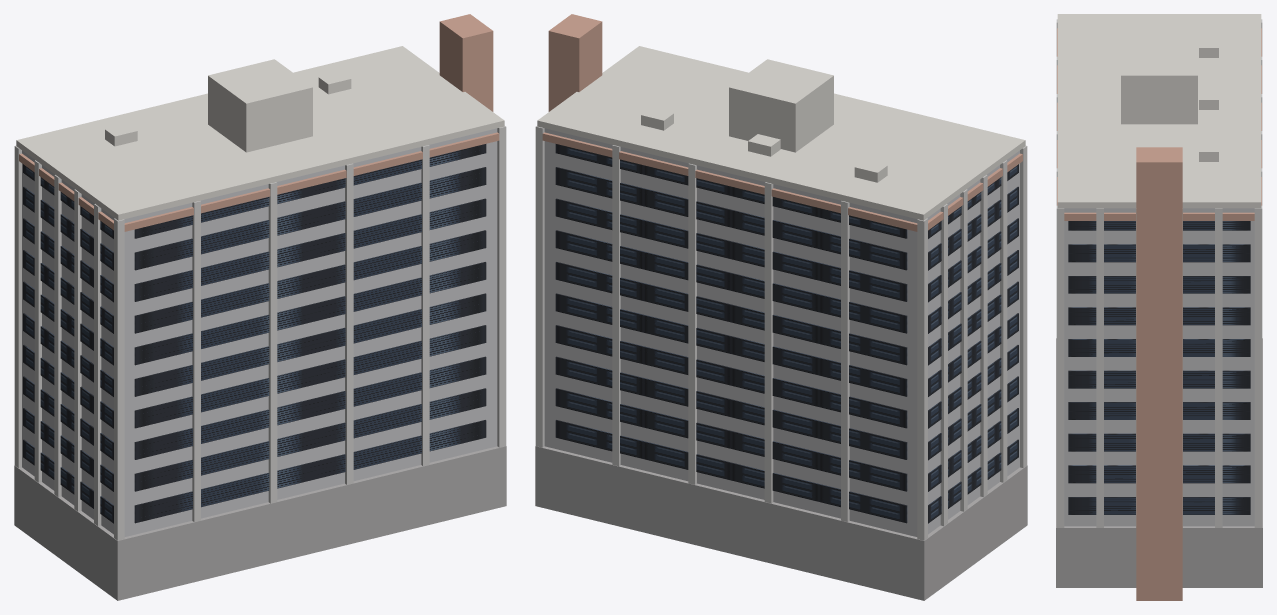
The model's file is skyline-tower-slab-tank.glb.
3 renders of one model, left to right at view 1: azimuth 30°, elevation 25°; view 2: azimuth 150°, elevation 25°; view 3: azimuth 270°, elevation 25°, orthographic.
Visible parts, largest first — view 1: windows, body-1, parapet, podium, pilasters, roof-detail, core, crown-band; view 2: windows, body-1, parapet, podium, pilasters, roof-detail, core, crown-band; view 3: parapet, windows, core, body-1, pilasters, podium, roof-detail, crown-band.
Boxes of the visible parts, x1,y1,x2,y2 form: windows: [23, 144, 486, 523]; body-1: [22, 128, 497, 536]; parapet: [16, 46, 504, 220]; podium: [14, 446, 506, 600]; pilasters: [14, 126, 506, 540]; roof-detail: [105, 59, 351, 152]; core: [439, 14, 493, 111]; crown-band: [19, 132, 499, 231]; windows: [555, 144, 1018, 523]; body-1: [544, 128, 1019, 536]; parapet: [537, 46, 1025, 220]; podium: [535, 446, 1027, 600]; pilasters: [535, 126, 1027, 540]; roof-detail: [641, 59, 887, 182]; core: [548, 14, 602, 111]; crown-band: [542, 132, 1022, 231]; parapet: [1057, 14, 1261, 208]; windows: [1068, 221, 1250, 514]; core: [1136, 147, 1182, 600]; body-1: [1064, 208, 1254, 526]; pilasters: [1056, 19, 1262, 527]; podium: [1056, 338, 1262, 587]; roof-detail: [1121, 36, 1218, 161]; crown-band: [1057, 28, 1261, 220].
Size of the model in its own units: 43.6 by 44 by 18.8.
6 materials, 1 textured.
